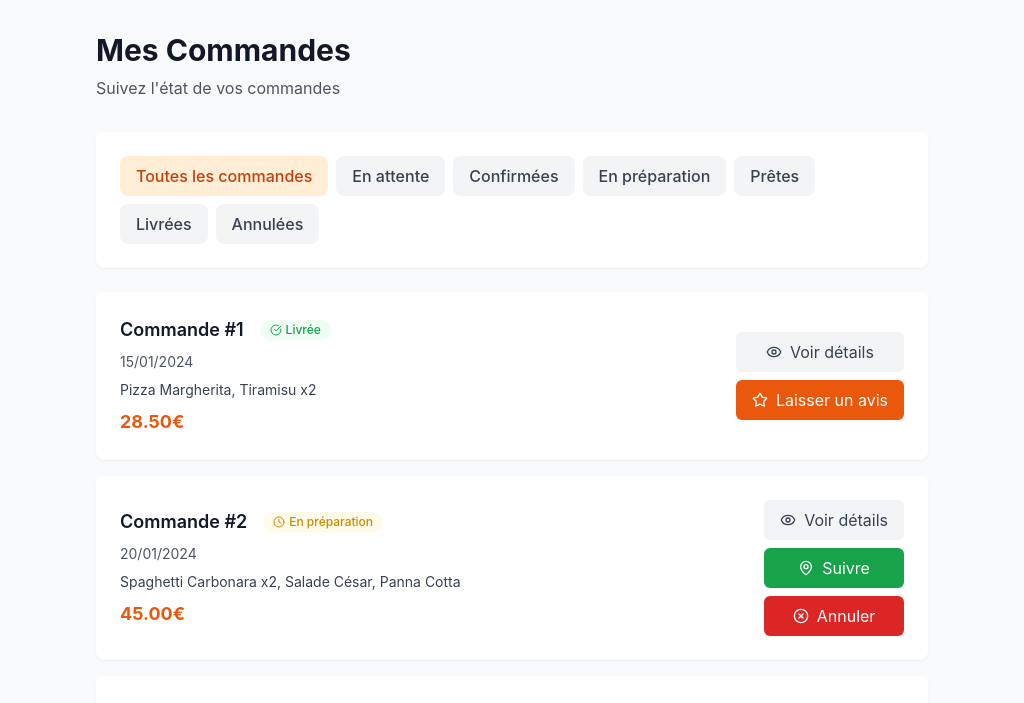
Test: Orders Component › should show detailed order breakdown when expanded
Click the button "Voir détails" in the row of "15/01/2024".
click(820, 352)  # box x1=736 y1=332 x2=904 y2=372
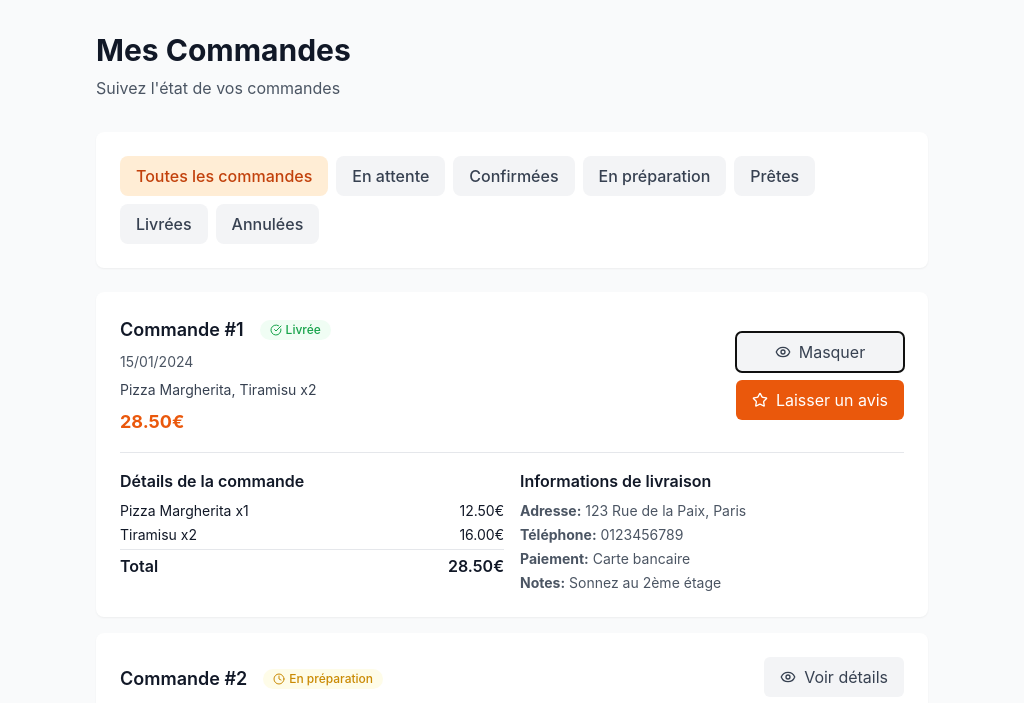
Expected: the text "Pizza Margherita x1" is shown, x1=120 y1=501 x2=249 y2=521
Expected: the text "Tiramisu x2" is shown, x1=120 y1=525 x2=197 y2=545
Expected: the heading "Informations de livraison" is shown, x1=520 y1=471 x2=711 y2=491
